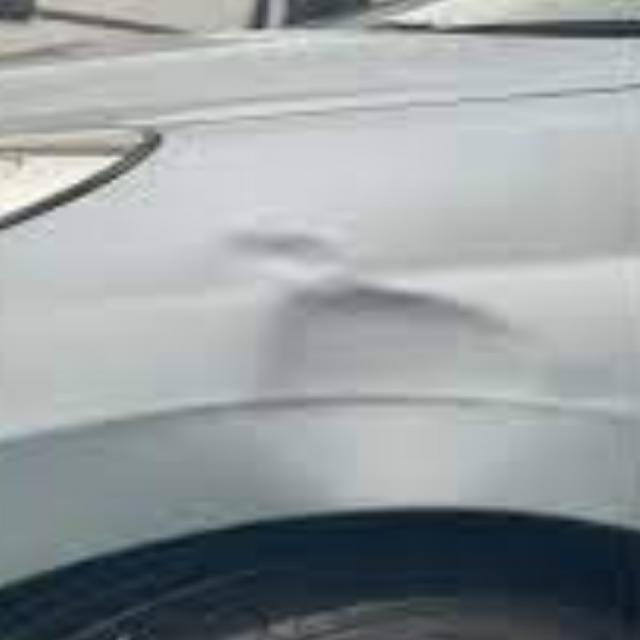dents: (195, 219, 544, 458)
